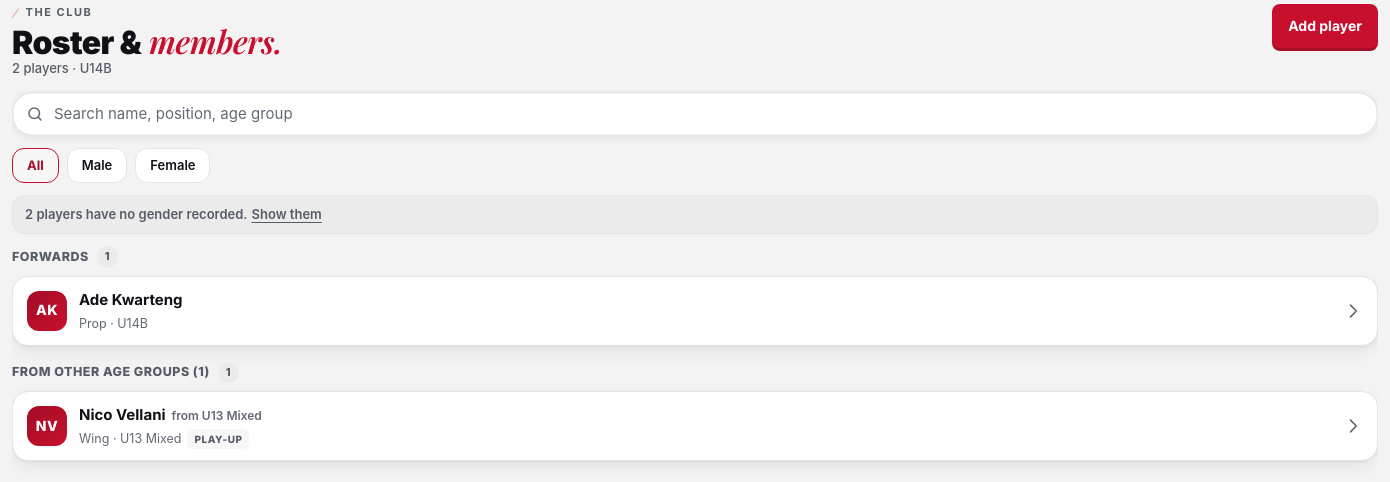
it: Roster — junior play-up guests › keeps a matching guest in the footer after search
Check: the text "Nico Vellani" is shown, box x1=79 y1=403 x2=166 y2=427
In the search field: (709, 114) x1=54 y1=102 x2=1364 y2=126, type "Nico"
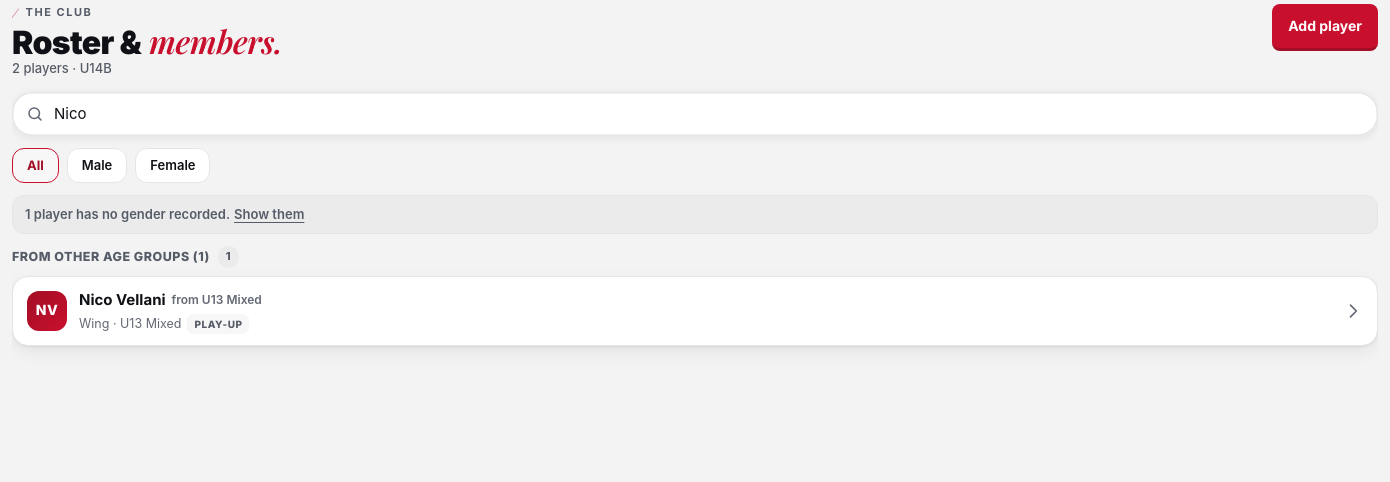
Check: the text "Nico Vellani" is shown, box x1=79 y1=288 x2=166 y2=312
Check: the button "Ade Kwarteng" is gone
